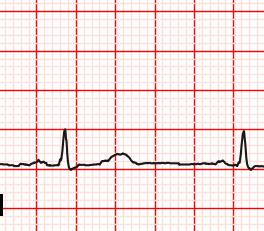LVH: (99, 151, 141, 167)
